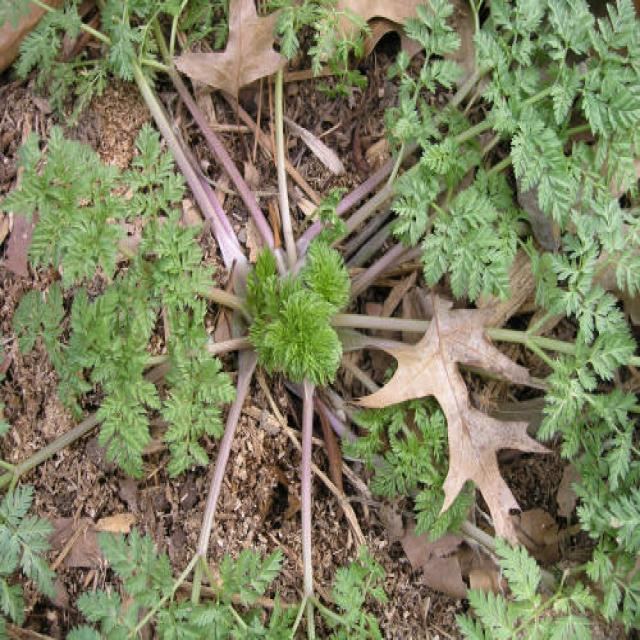Poisonous-Hemlock: (414, 11, 640, 640), (19, 126, 271, 640)
